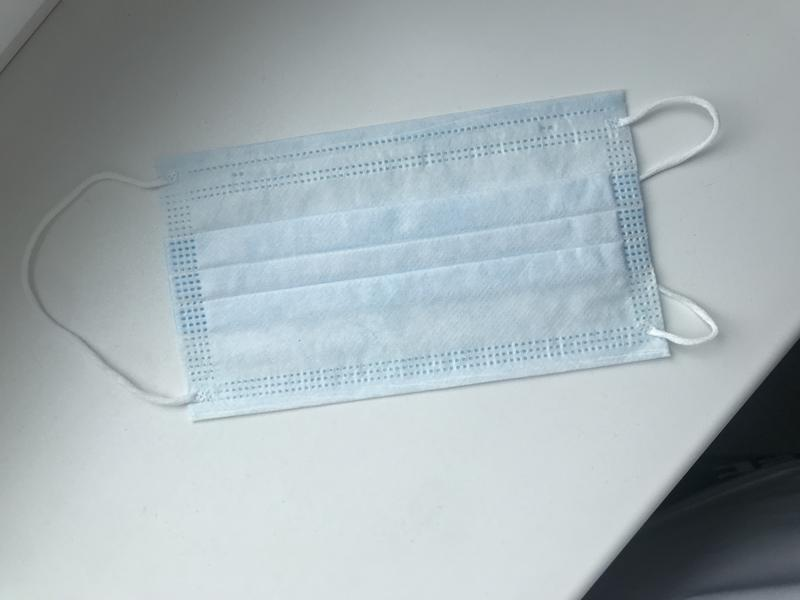medical_mask: (22, 91, 720, 414)
